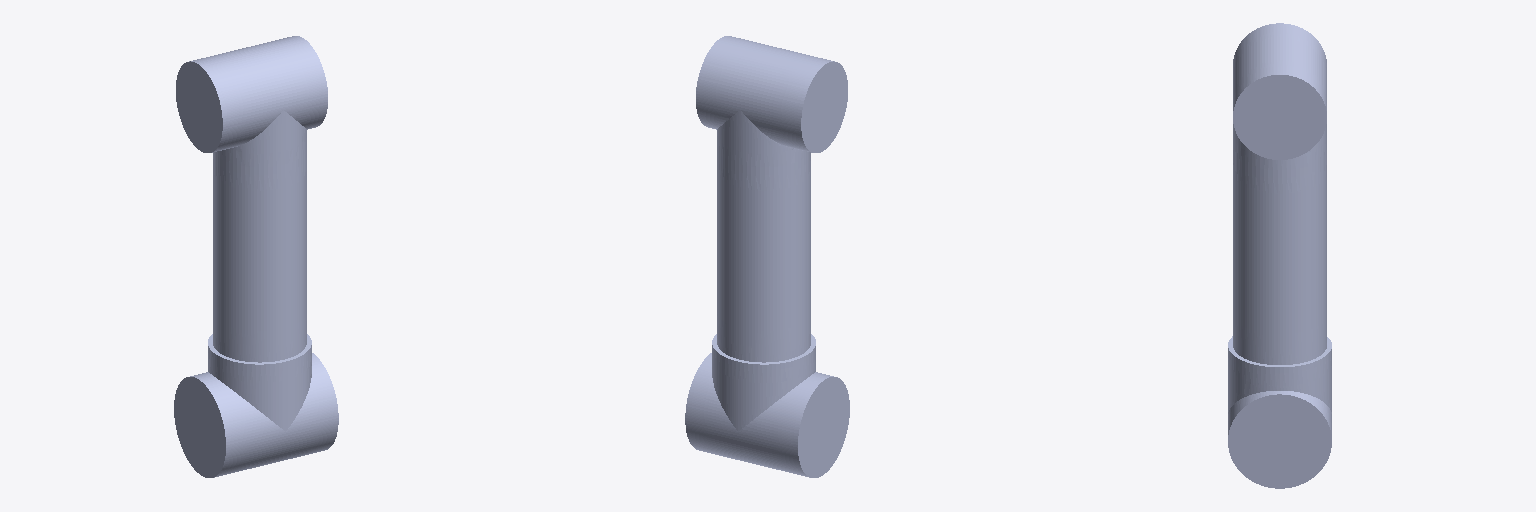
3 renders of one model, left to right at view 1: azimuth 30°, elevation 25°; view 2: azimuth 150°, elevation 25°; view 3: azimuth 270°, elevation 25°, orthographic.
Visible parts, largest first — view 1: [number redacted]; view 2: [number redacted]; view 3: [number redacted].
Part boxes in pixels (left/top/right/bottom): [number redacted]: left=174, top=36, right=338, bottom=477; [number redacted]: left=685, top=36, right=849, bottom=477; [number redacted]: left=1228, top=23, right=1331, bottom=488.
Bounding box in the file's own units: 0.6639 × 2.29 × 0.5272.